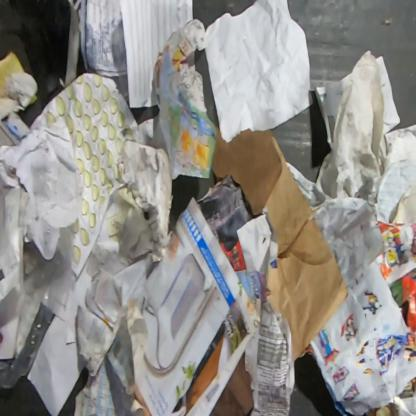cardboard: (60, 4, 80, 89), (0, 109, 30, 147)
metal: (0, 0, 71, 130)
soft_plastic: (0, 224, 77, 392)
